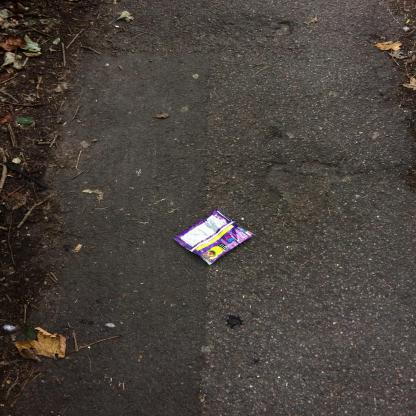plastik: (175, 208, 257, 266)
